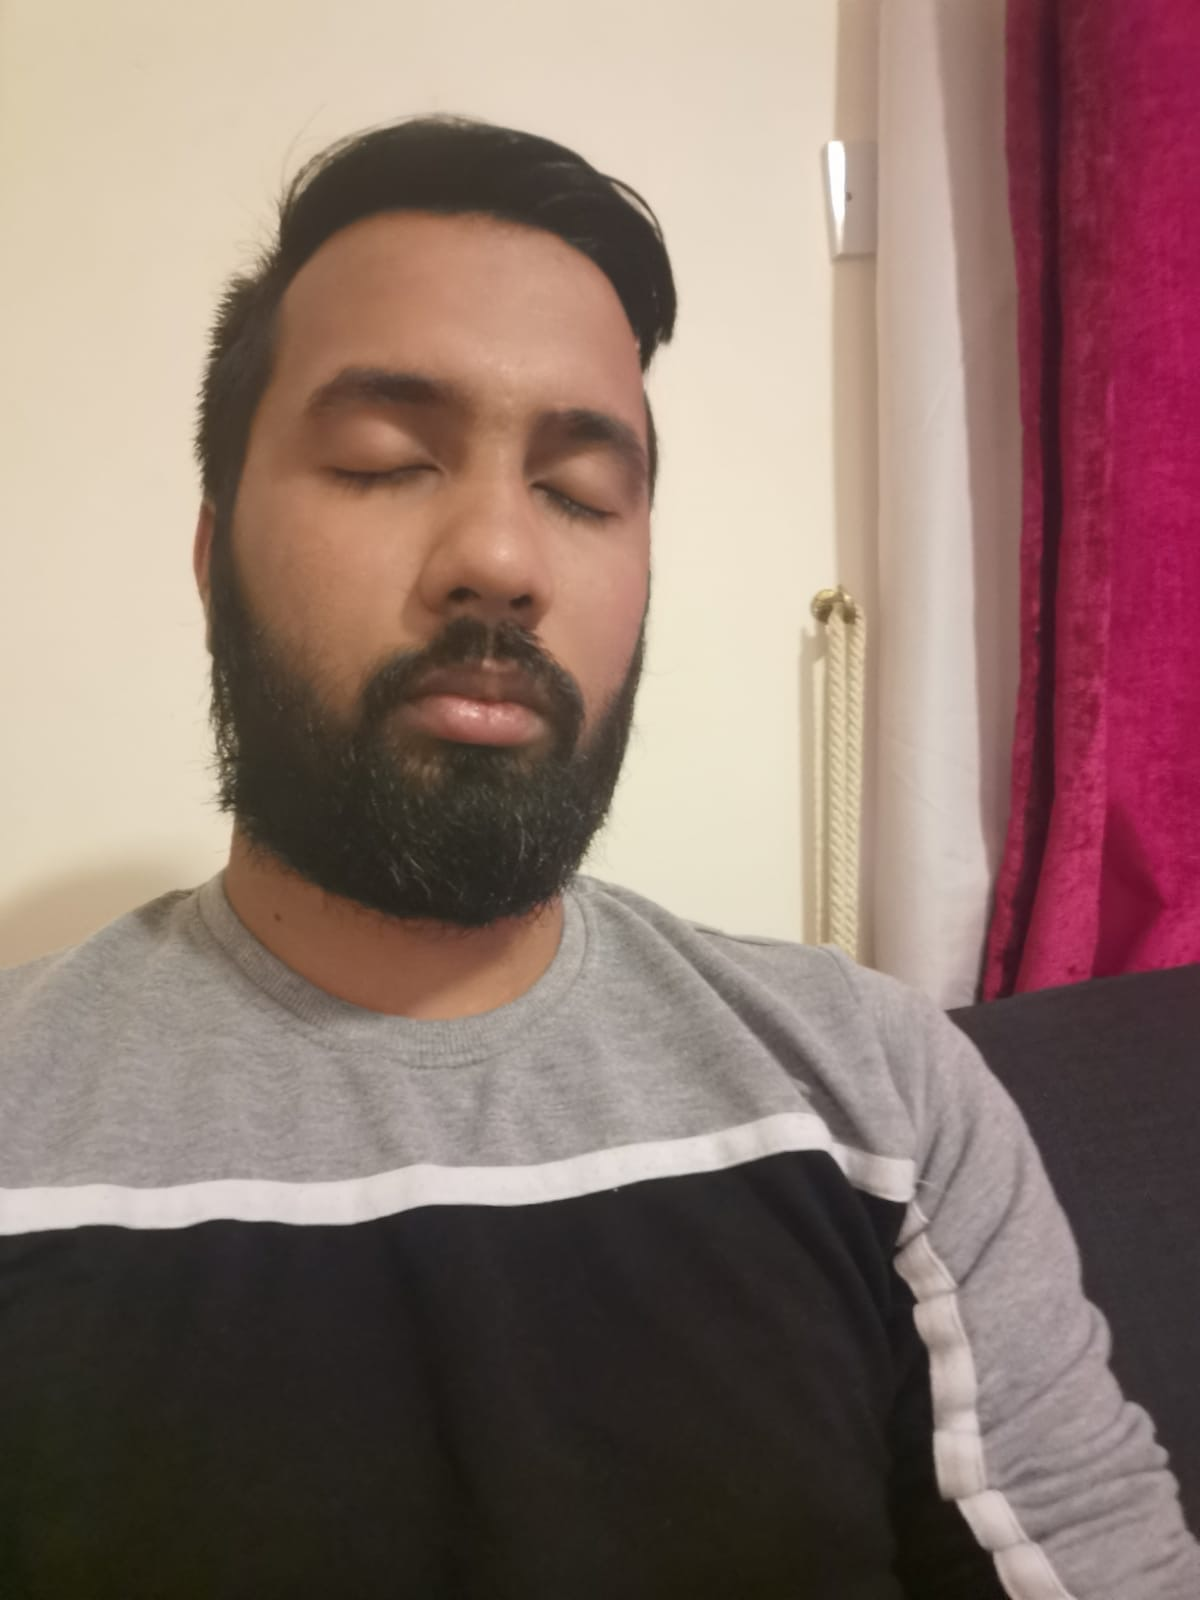Sleeping: (276, 401, 645, 569)
